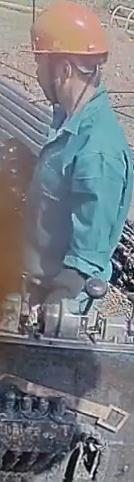helmet: (25, 1, 108, 73)
vest: (26, 82, 133, 290)
